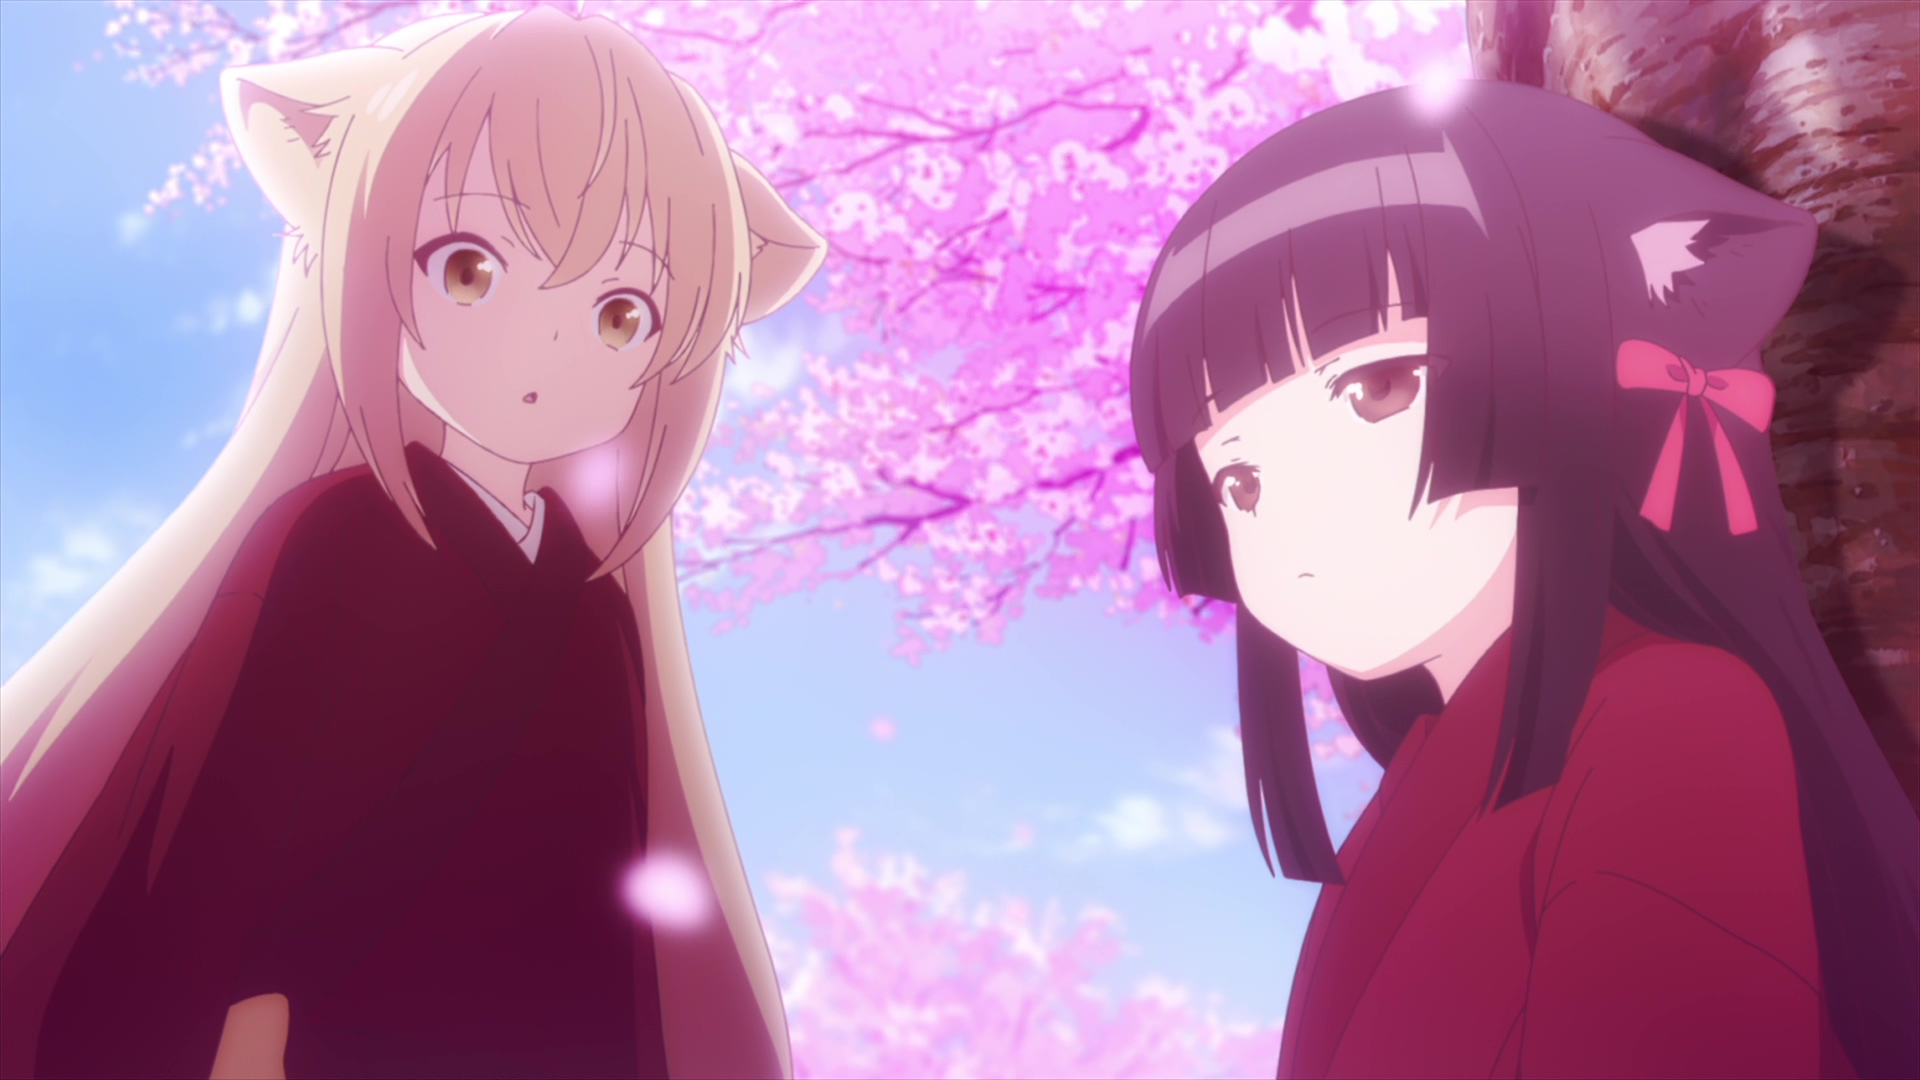柚: (1, 1, 828, 1080)
樱: (1129, 79, 1920, 1080)
